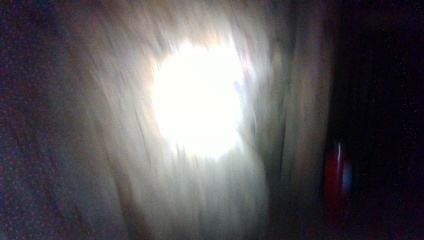fire_extinguisher: (314, 127, 361, 226)
